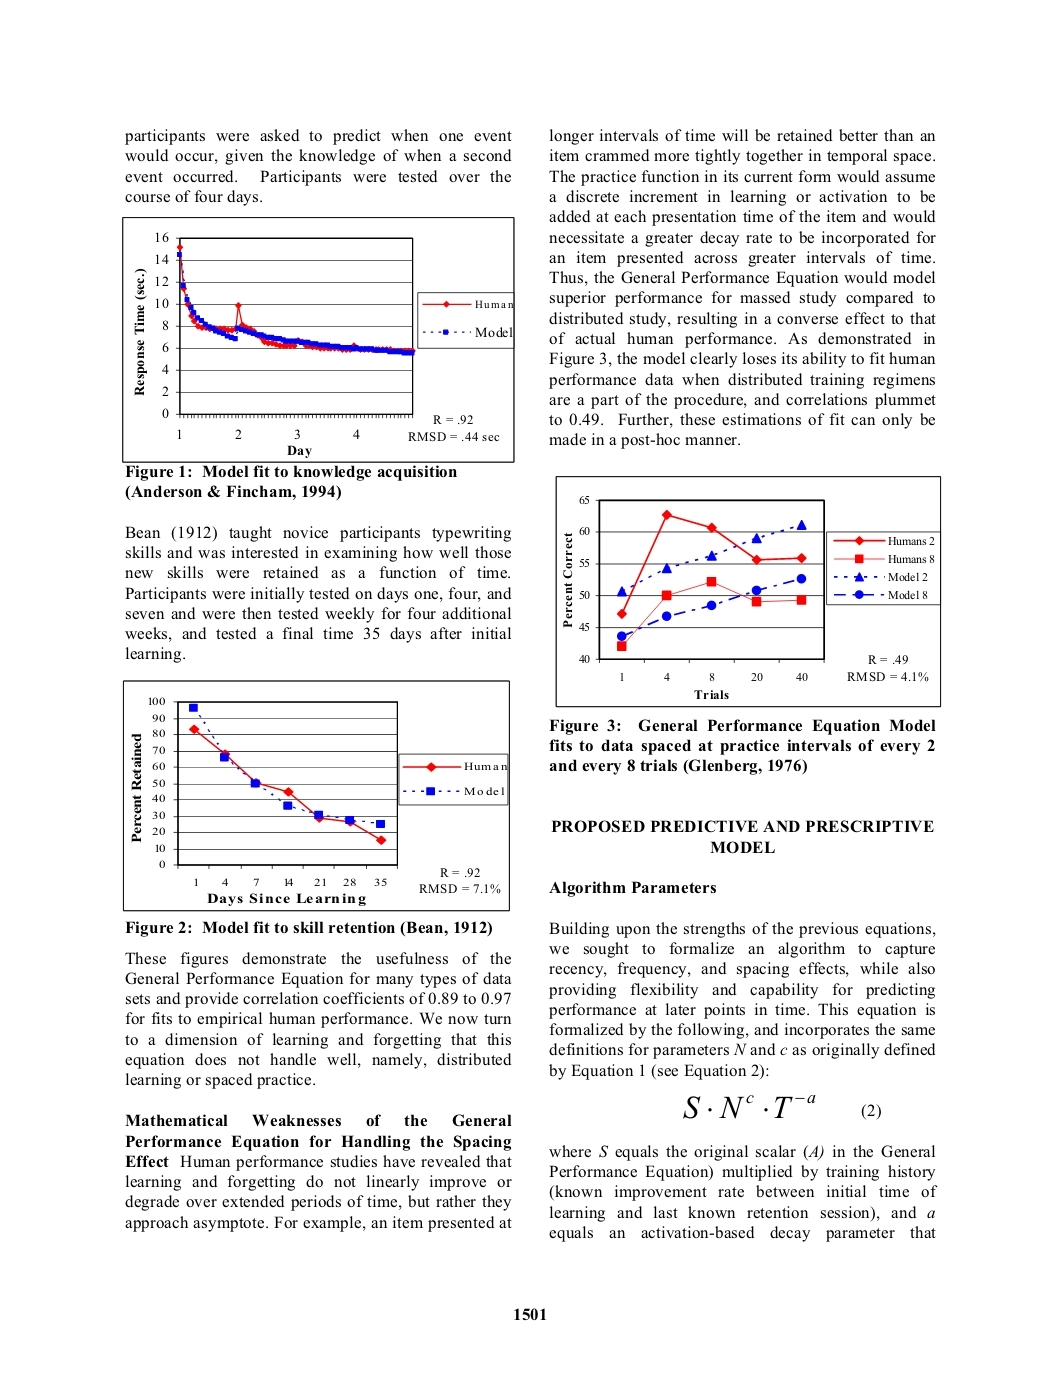figure: (121, 217, 514, 462), (121, 679, 509, 912), (555, 475, 941, 708)
formula: (683, 1094, 880, 1120)
